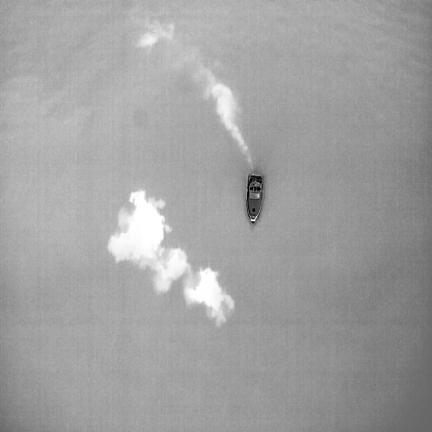flukeprints: (108, 191, 189, 292), (185, 268, 234, 324)
